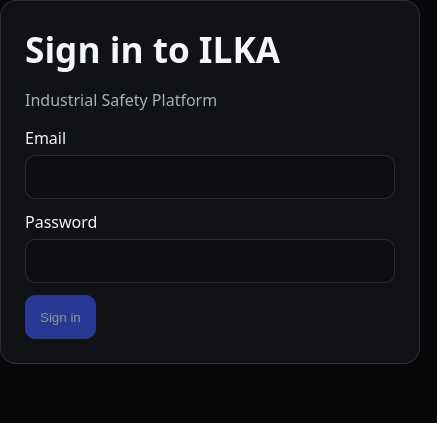
it: LoginView › does not write the password to browser storage
This screenshot has width=437, height=423.
Type "user@example.com" into the field labelled "Email" at (210,177), box [25,155,395,199]
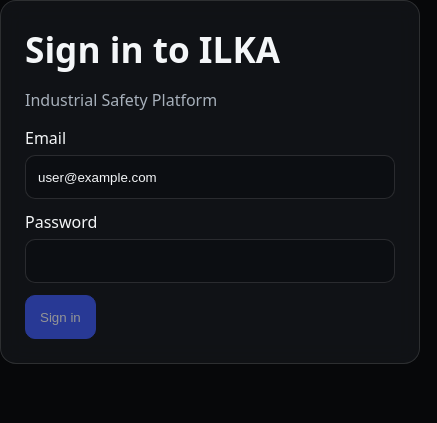
Type "secret123" into the password field labelled "Password" at (210,261), box [25,239,395,283]
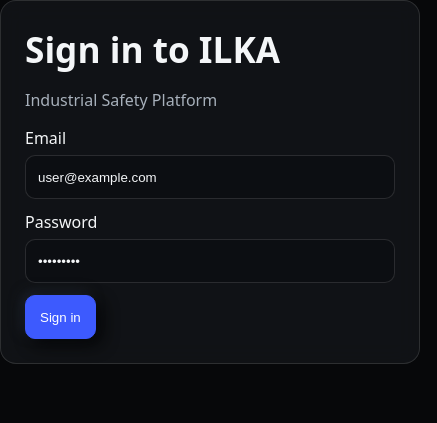
Click the button "Sign in" at (60,317), box [25,295,96,339]
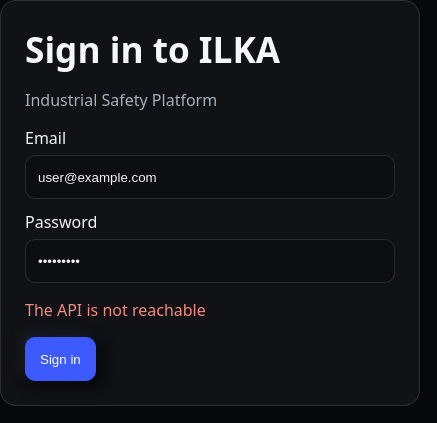
Result: the message "The API is not reachable" is shown at [25,299,206,321]
